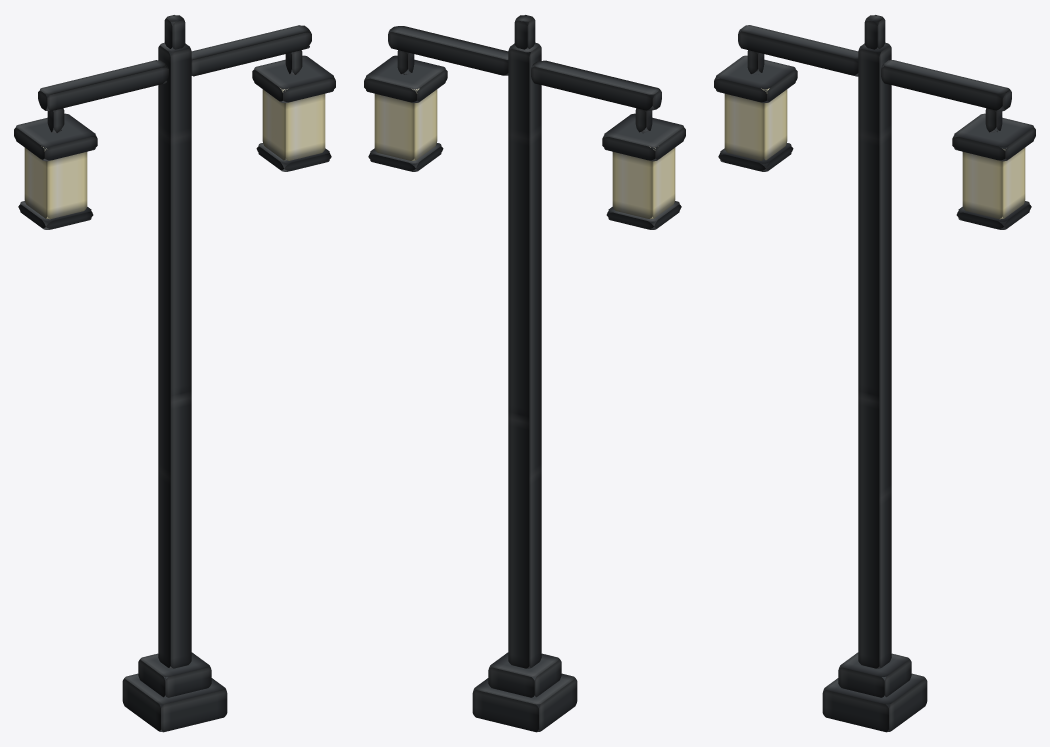
The model's file is Farola_Parque_Doble.fbx.
3 renders of one model, left to right at view 1: azimuth 30°, elevation 25°; view 2: azimuth 150°, elevation 25°; view 3: azimuth 330°, elevation 25°, orthographic.
Visible parts, largest first — view 1: Farola_Parque_Doble; view 2: Farola_Parque_Doble; view 3: Farola_Parque_Doble.
Part boxes in pixels (box(x1,y1,x2,y2)): Farola_Parque_Doble: box(14, 15, 335, 732); Farola_Parque_Doble: box(364, 15, 685, 732); Farola_Parque_Doble: box(714, 15, 1035, 732).
Bounding box in the file's own units: 1.38 × 3.12 × 0.3125.
1 material, 1 textured.
